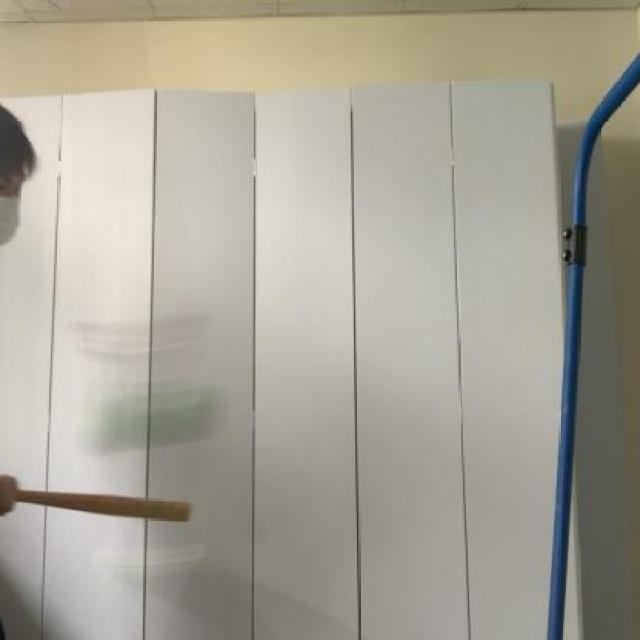baseball: (69, 379, 223, 453)
